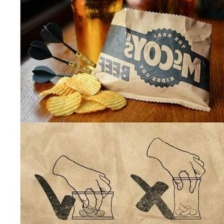snack: (83, 3, 216, 115)
